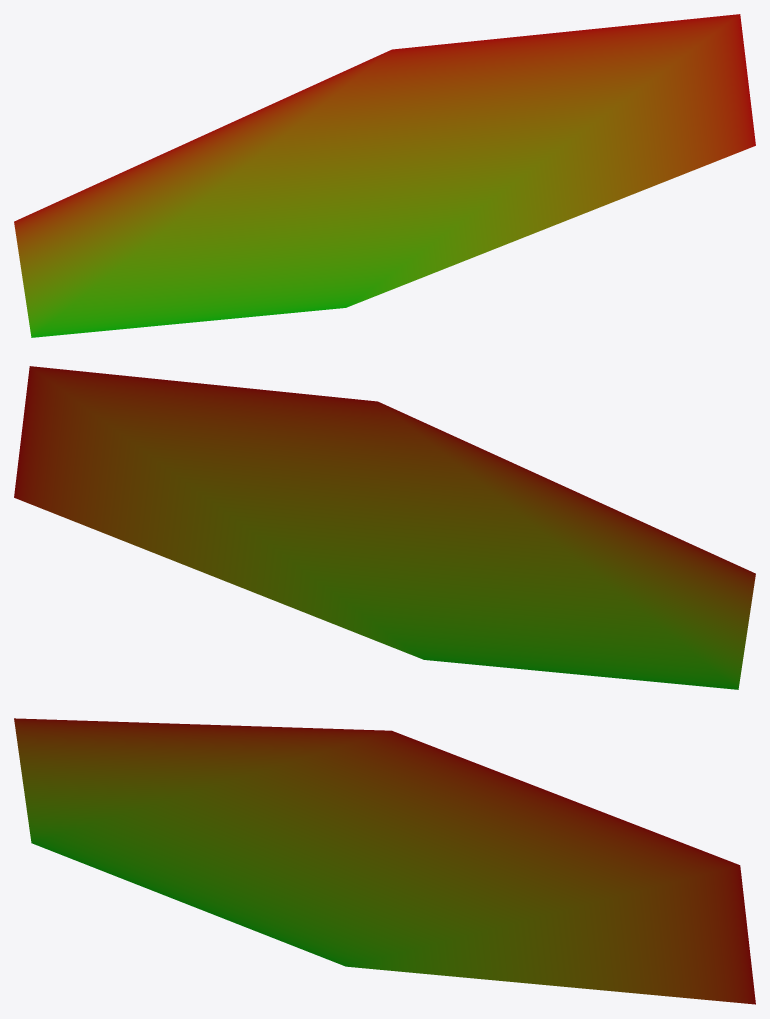
Rendered from Alpine Bearberry_LOD5_Var3_xb0gdazqx.fbx.
The picture shows the model from 3 angles, top to bottom: view 1: azimuth 30°, elevation 25°; view 2: azimuth 150°, elevation 25°; view 3: azimuth 330°, elevation 25°; orthographic projection.
Parts seen in each view (by area): view 1: _v5ew_Var3_LOD5; view 2: _v5ew_Var3_LOD5; view 3: _v5ew_Var3_LOD5.
Boxes of the visible parts, x1,y1,x2,y2 form: _v5ew_Var3_LOD5: (14, 14, 755, 337); _v5ew_Var3_LOD5: (14, 366, 755, 689); _v5ew_Var3_LOD5: (14, 718, 755, 1004).
Size of the model in its own units: 55.71 by 17.73 by 0.
